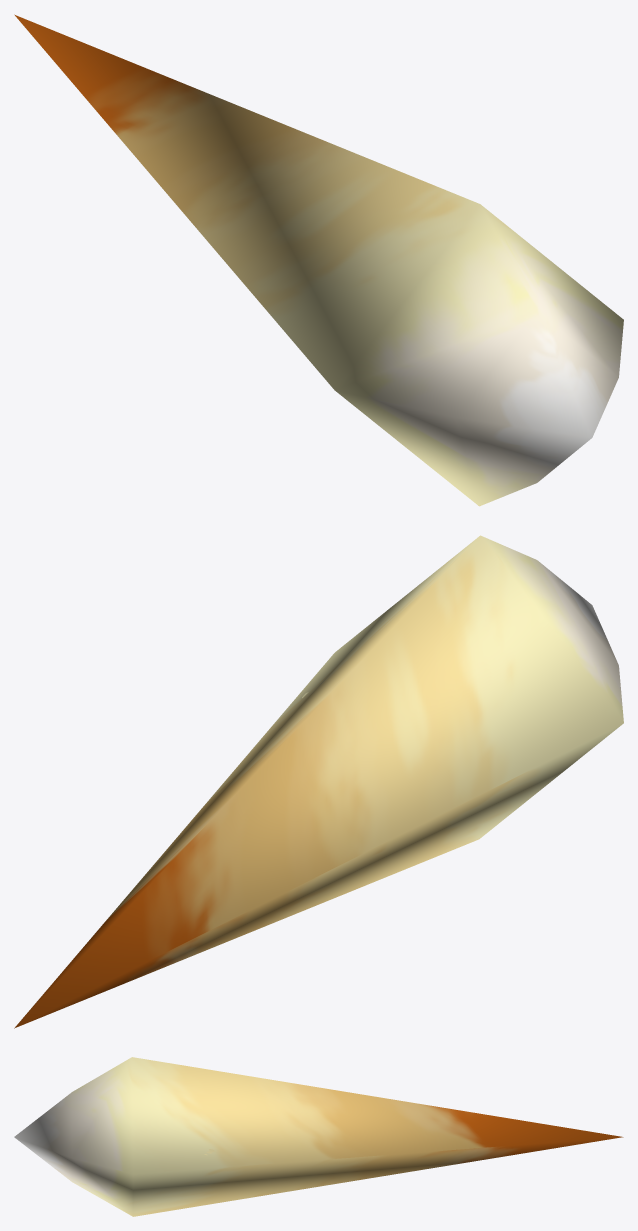
Rendered from ProjectileBallistic.fbx.
The picture shows the model from 3 angles, top to bottom: view 1: azimuth 30°, elevation 25°; view 2: azimuth 150°, elevation 25°; view 3: azimuth 270°, elevation 25°; orthographic projection. The views are drawn at different scales.
Parts seen in each view (by area): view 1: pCube1; view 2: pCube1; view 3: pCube1.
Part boxes in pixels (box(x1,y1,x2,y2)): pCube1: box(14, 14, 623, 506); pCube1: box(14, 535, 623, 1028); pCube1: box(14, 1057, 623, 1216).
Bounding box in the file's own units: 0.948 × 0.9491 × 3.28.
